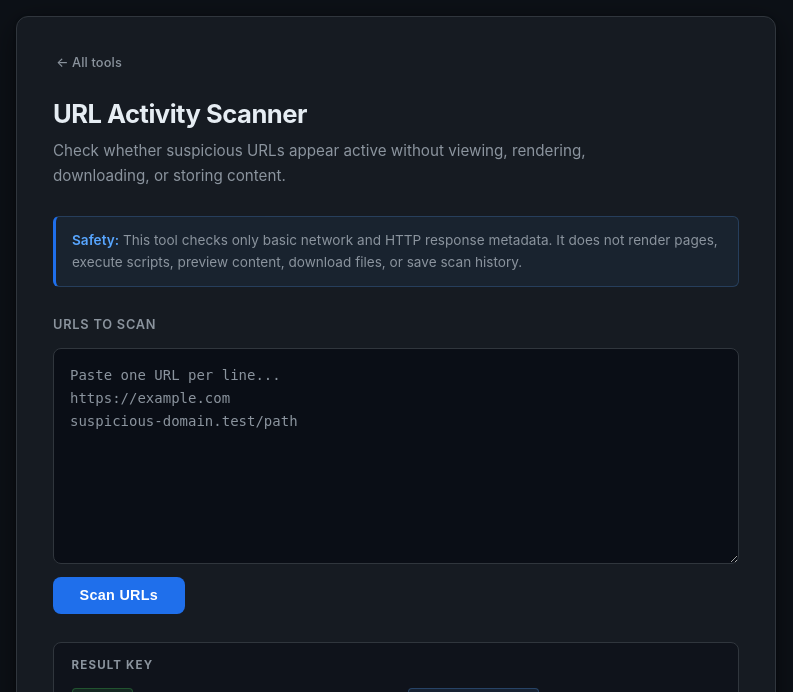
Test case: 6. Result handling › displays a generic error for a network failure
The image size is (793, 692).
Replace the text in the text box with "https://example.com" at (396, 456), box x1=53 y1=348 x2=739 y2=564
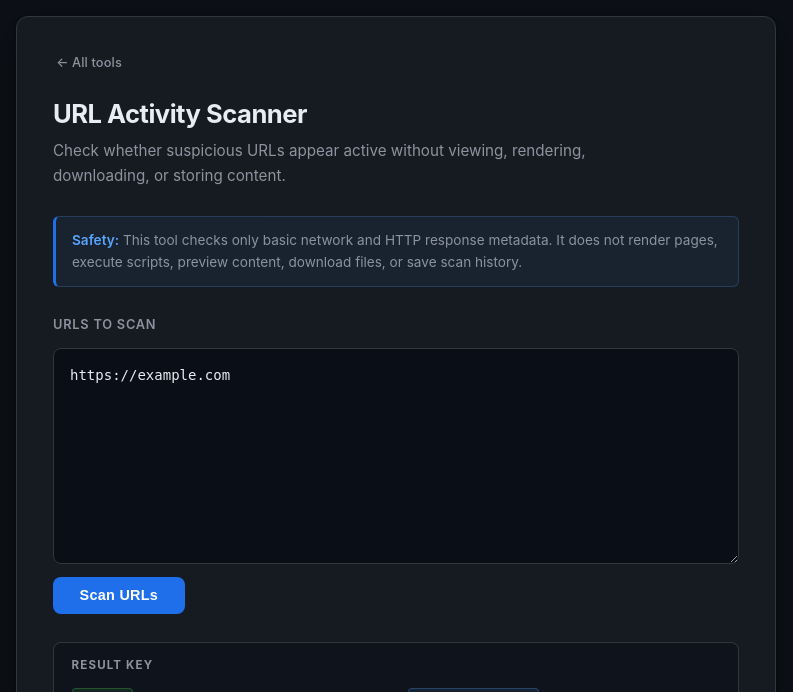
Click the button "Scan URLs" at (119, 595), box x1=53 y1=577 x2=185 y2=614
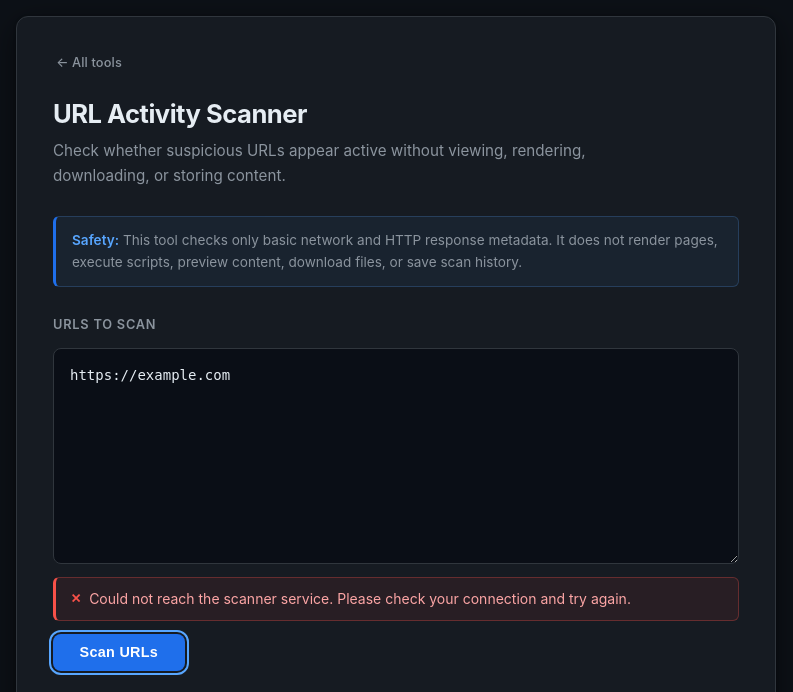
Check: the message does not show "Network offline", box x1=53 y1=577 x2=739 y2=621
Check: the message shows "Could not reach", box x1=89 y1=590 x2=631 y2=607
